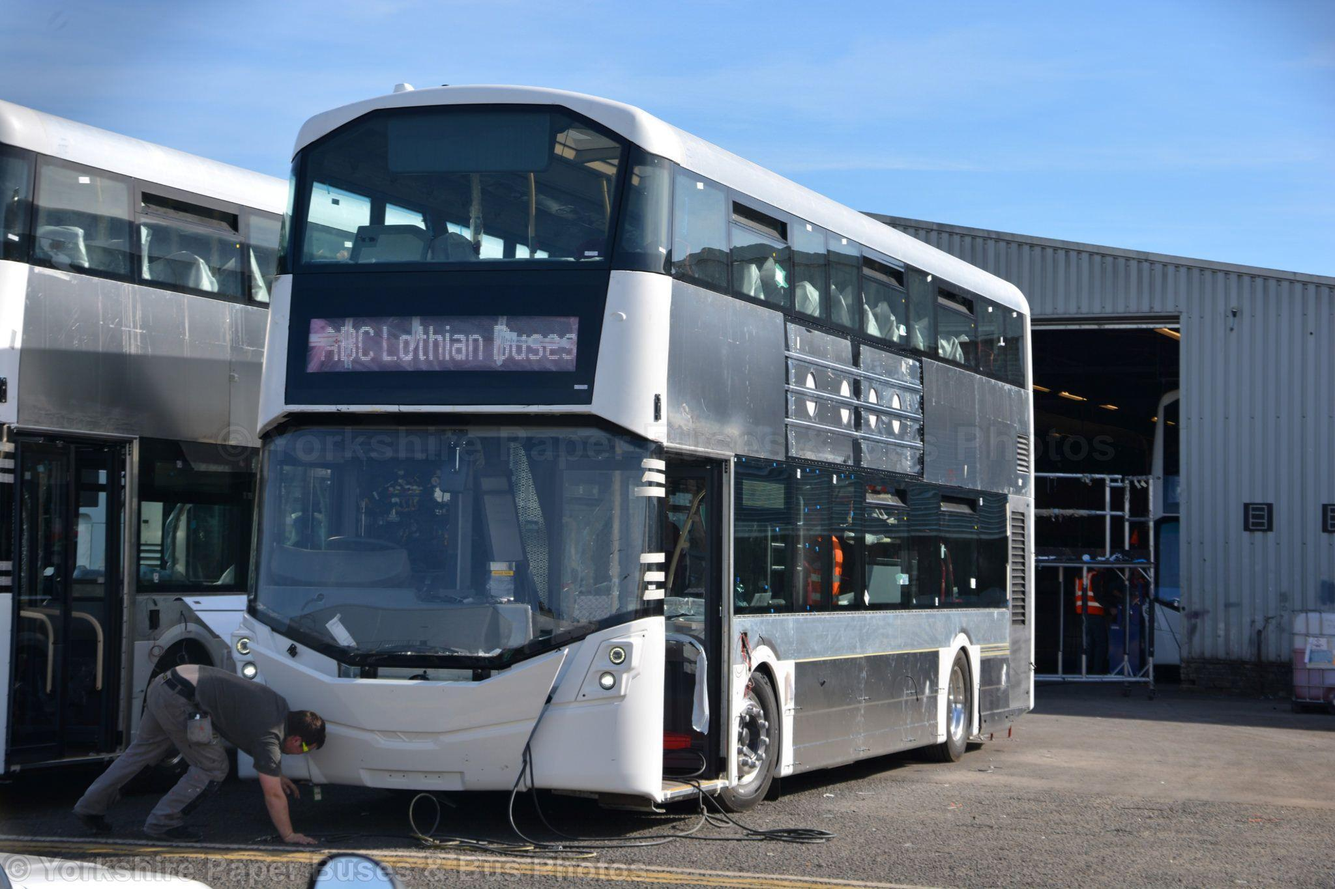Bus: (246, 88, 1023, 804)
